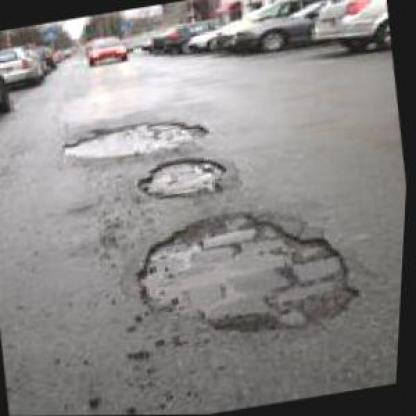pothole: (122, 187, 381, 361), (56, 108, 219, 168), (132, 151, 237, 205)
